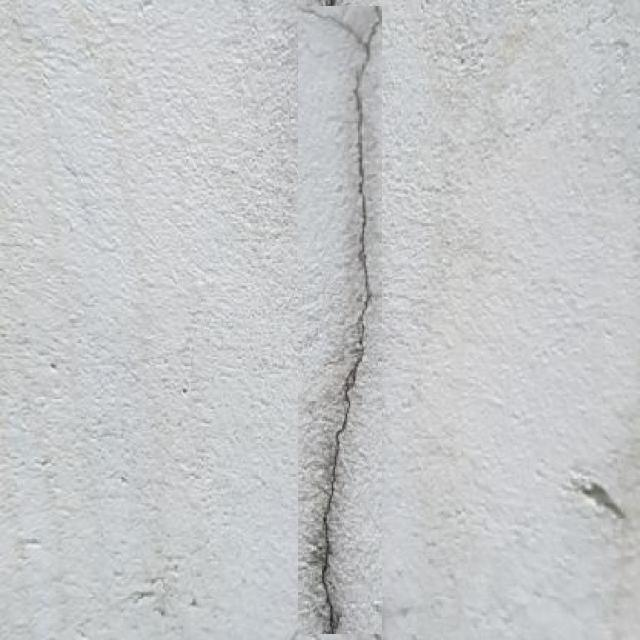crack: (291, 0, 384, 639)
